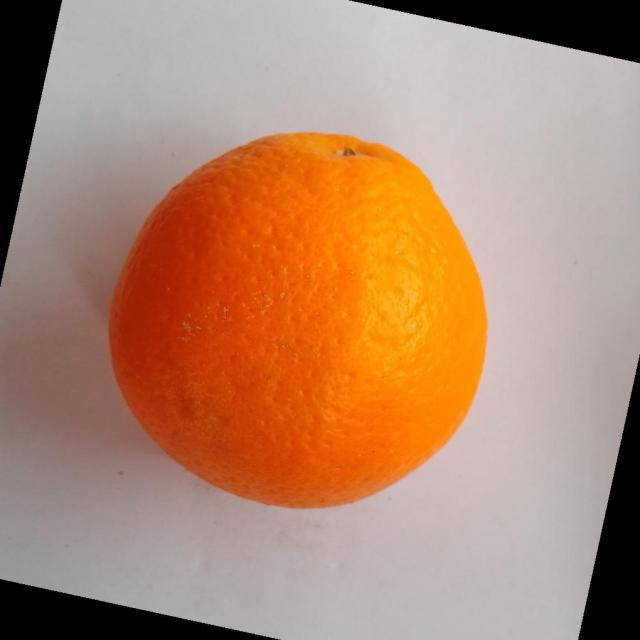fresh orange: (107, 130, 488, 509)
